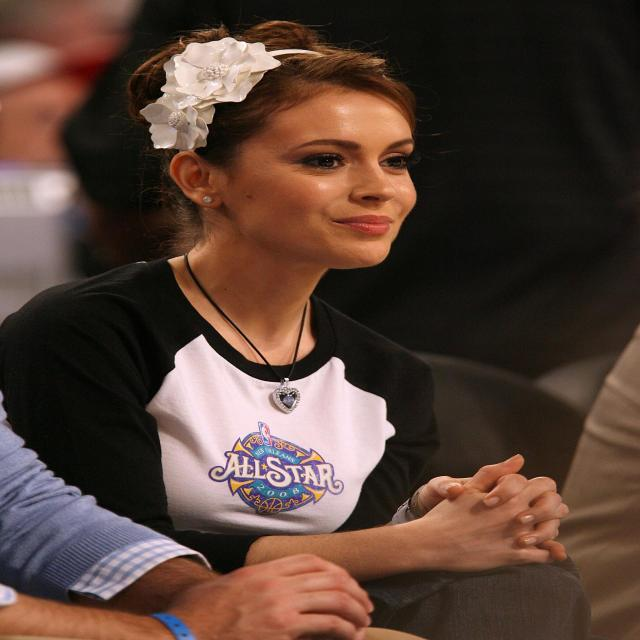no-earmuff: (161, 142, 234, 220)
